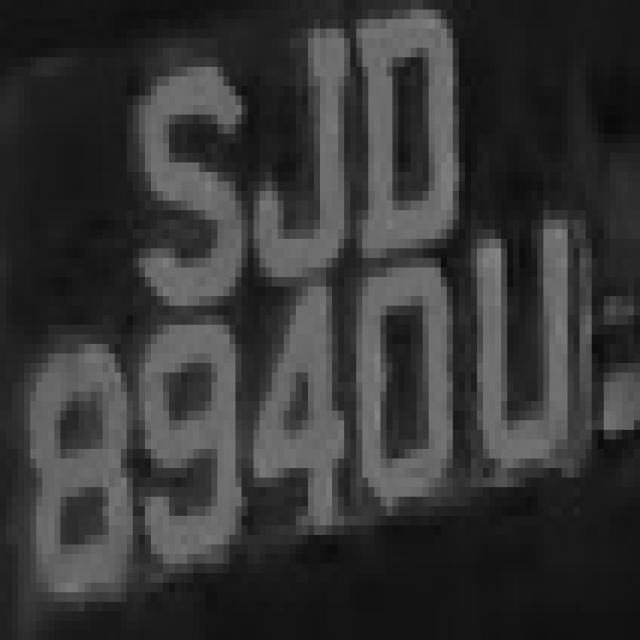0: (338, 258, 453, 535)
4: (224, 306, 356, 564)
8: (6, 306, 145, 630)
9: (115, 315, 248, 583)
D: (344, 9, 483, 268)
J: (236, 28, 356, 306)
S: (114, 47, 260, 306)
U: (440, 220, 598, 506)
